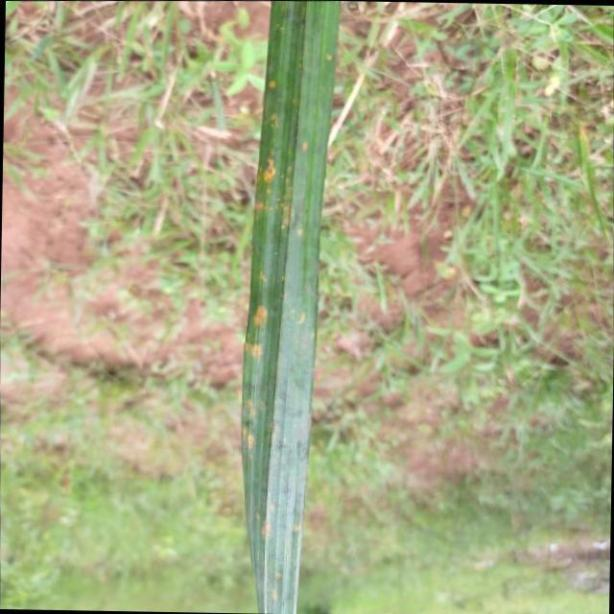Kalium: (236, 0, 336, 614)
